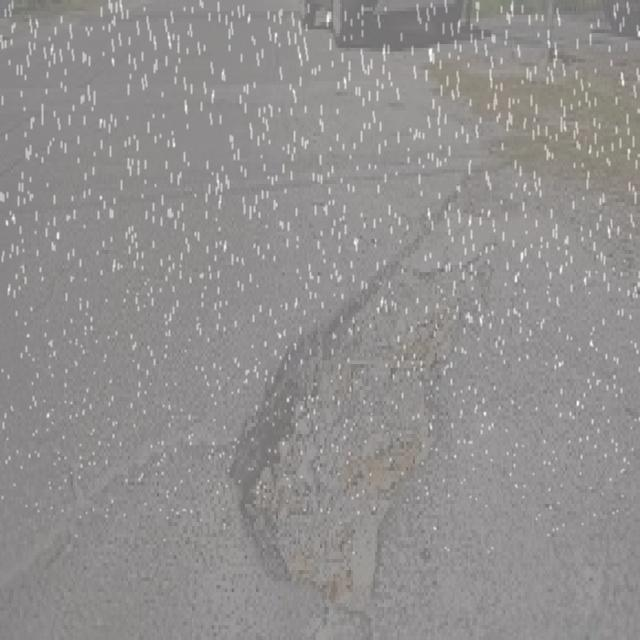Pothole: (232, 173, 516, 627)
